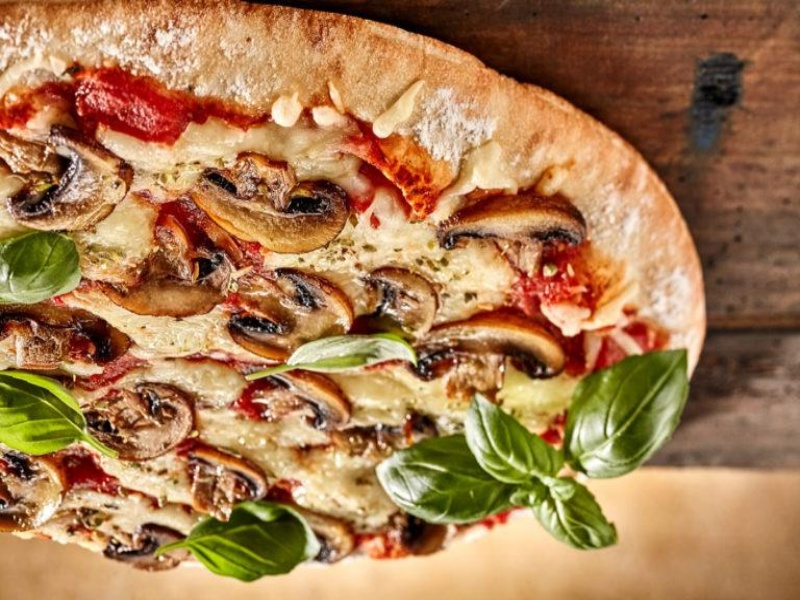champignon: (185, 146, 363, 256), (400, 316, 576, 420), (3, 127, 136, 239), (223, 267, 362, 364), (436, 189, 591, 271), (79, 377, 201, 465), (262, 367, 367, 439)
